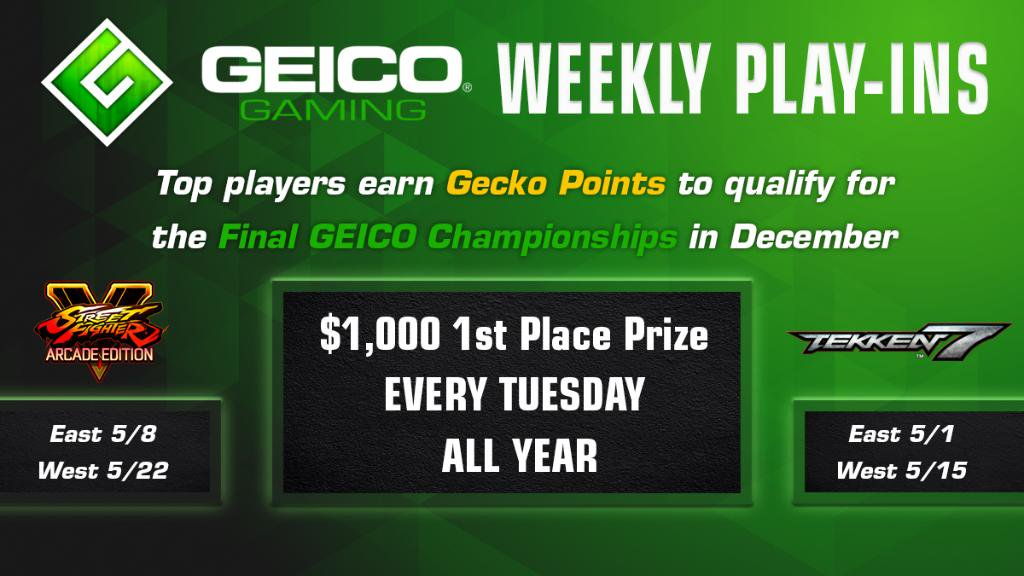geico: (200, 42, 480, 99)
